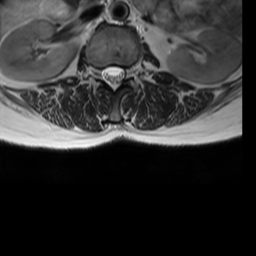CCS_normal: (108, 58, 118, 96)
LFS_normal: (125, 63, 133, 86)
LLS_normal: (118, 62, 126, 87)
RFS_normal: (93, 62, 102, 85)
RLS_normal: (101, 62, 109, 86)
